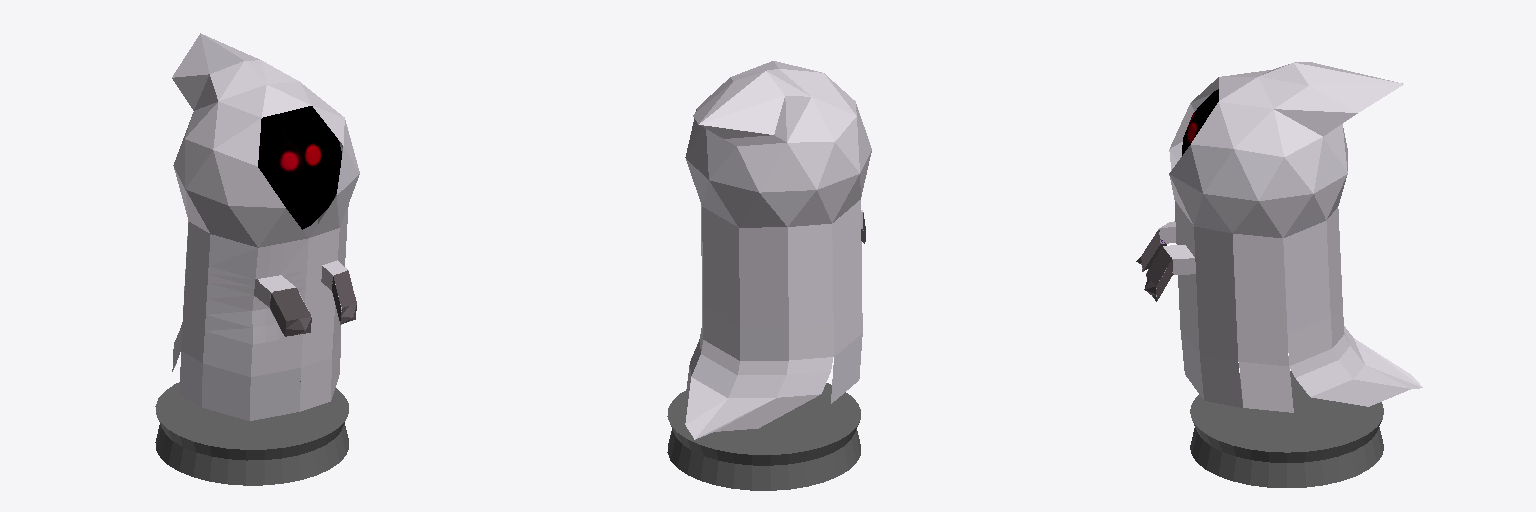
3 renders of one model, left to right at view 1: azimuth 30°, elevation 25°; view 2: azimuth 150°, elevation 25°; view 3: azimuth 270°, elevation 25°, orthographic.
Parts seen in each view (by area): view 1: ICO球, Cylinder, 球; view 2: ICO球, Cylinder; view 3: ICO球, Cylinder, 球.
Boxes of the visible parts, x1=… form: ICO球: x1=172, y1=33, x2=359, y2=420; Cylinder: x1=155, y1=382, x2=348, y2=485; 球: x1=258, y1=106, x2=341, y2=229; ICO球: x1=684, y1=61, x2=871, y2=439; Cylinder: x1=667, y1=383, x2=860, y2=490; ICO球: x1=1136, y1=62, x2=1422, y2=412; Cylinder: x1=1190, y1=371, x2=1383, y2=487; 球: x1=1182, y1=89, x2=1218, y2=155.
Size of the model in its own units: 1.28 by 2.78 by 1.89.
3 materials, 3 textured.